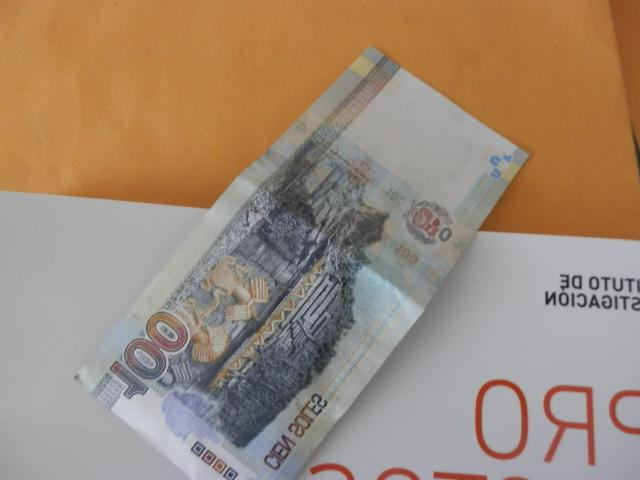B100: (77, 49, 529, 480)
